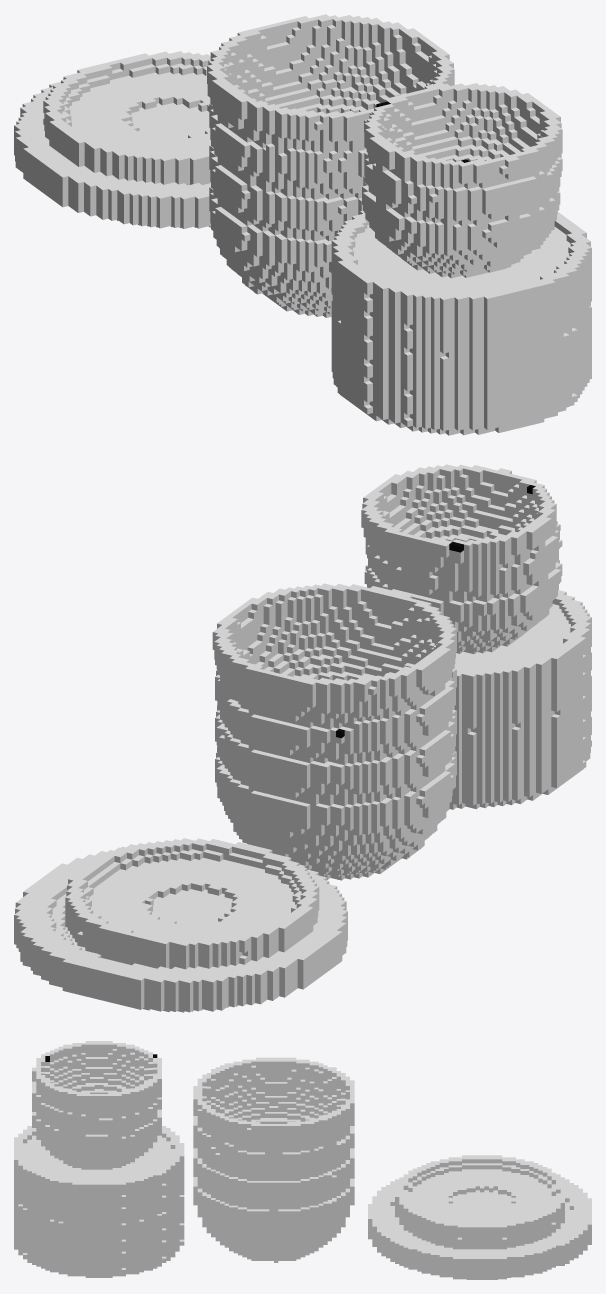
The model's file is Plateset.obj.
The picture shows the model from 3 angles, top to bottom: view 1: azimuth 30°, elevation 25°; view 2: azimuth 150°, elevation 25°; view 3: azimuth 270°, elevation 25°; orthographic projection. The views are drawn at different scales.
Parts seen in each view (by area): view 1: plateset_50x43x129; view 2: plateset_50x43x129; view 3: plateset_50x43x129.
Part boxes in pixels (left/top/right/bottom): plateset_50x43x129: left=14, top=14, right=591, bottom=435; plateset_50x43x129: left=14, top=464, right=591, bottom=1012; plateset_50x43x129: left=14, top=1041, right=591, bottom=1279.
Size of the model in its own units: 0.381 by 0.3277 by 0.9831.
